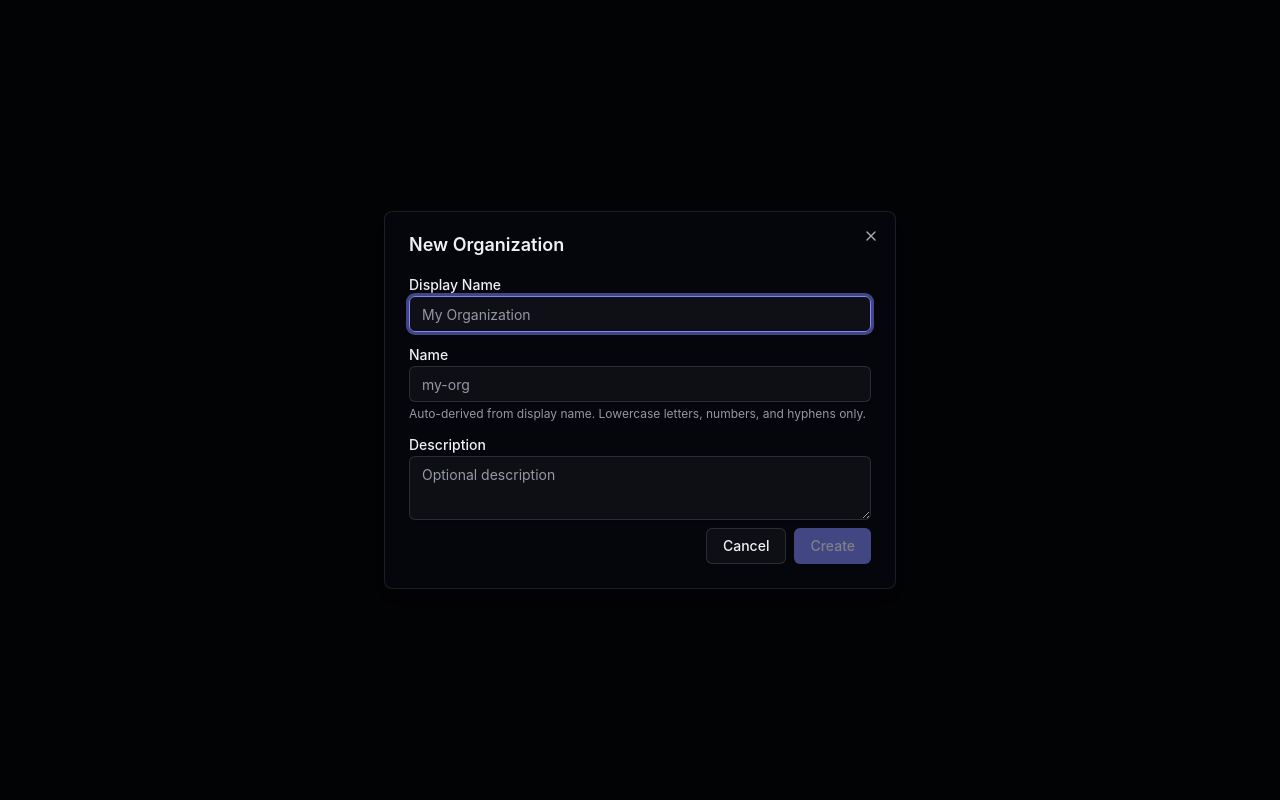
Test: CreateOrgDialog › auto-derives name from display name as user types
Type "Test Org" into the field with placeholder "My Organization" at {"x": 640, "y": 314}, box [409, 296, 871, 332]
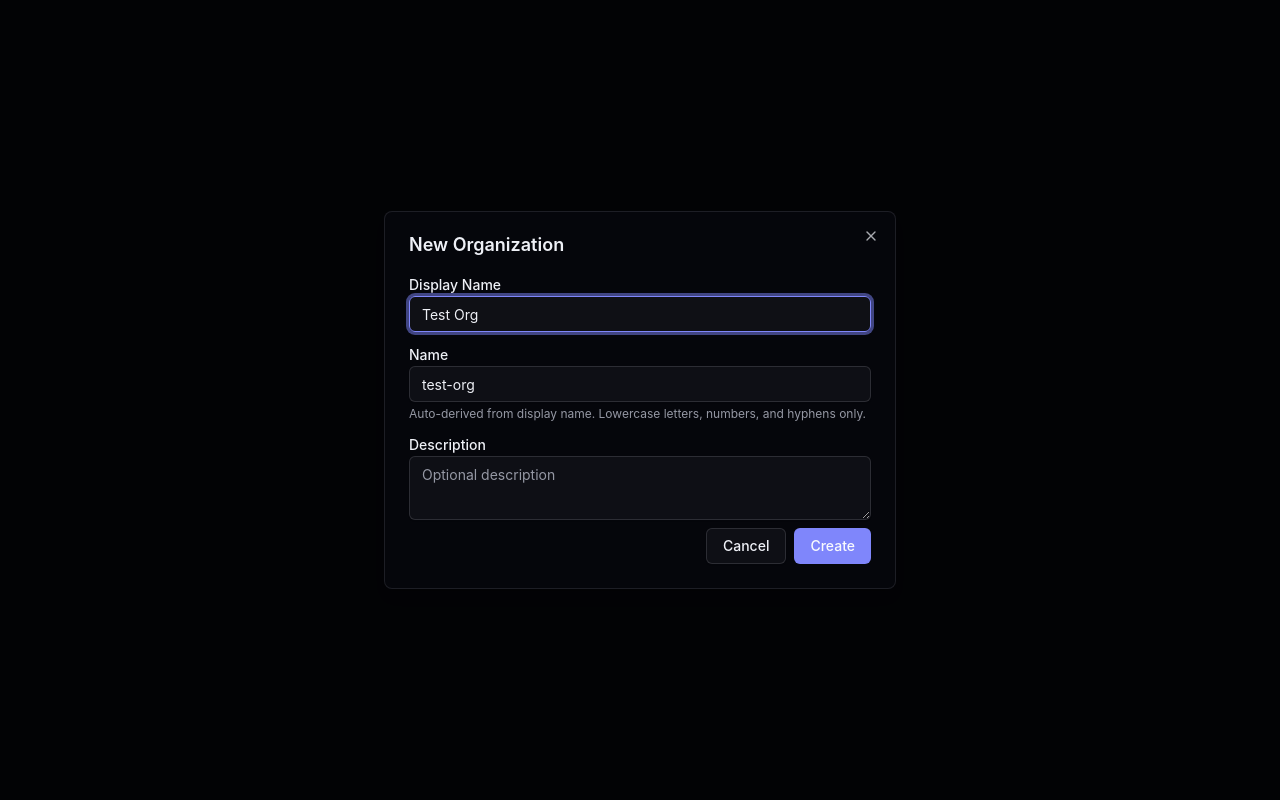
Now the field with placeholder "my-org" holds "test-org", box [409, 366, 871, 402]
